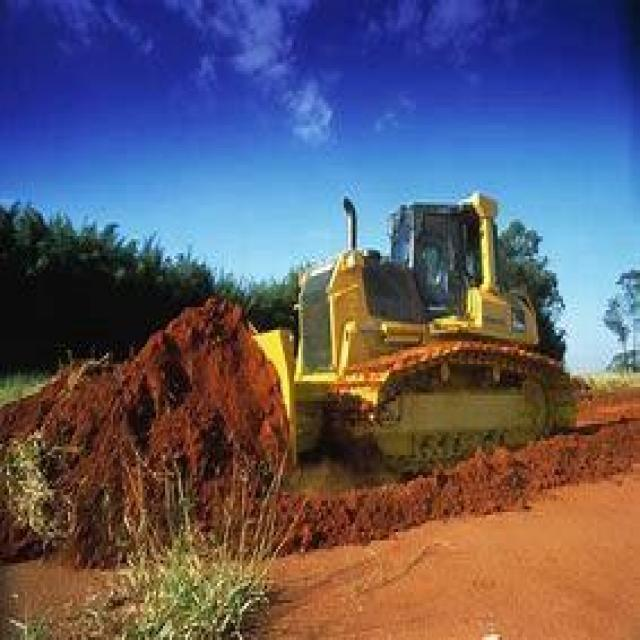Bulldozer: (174, 171, 586, 489)
